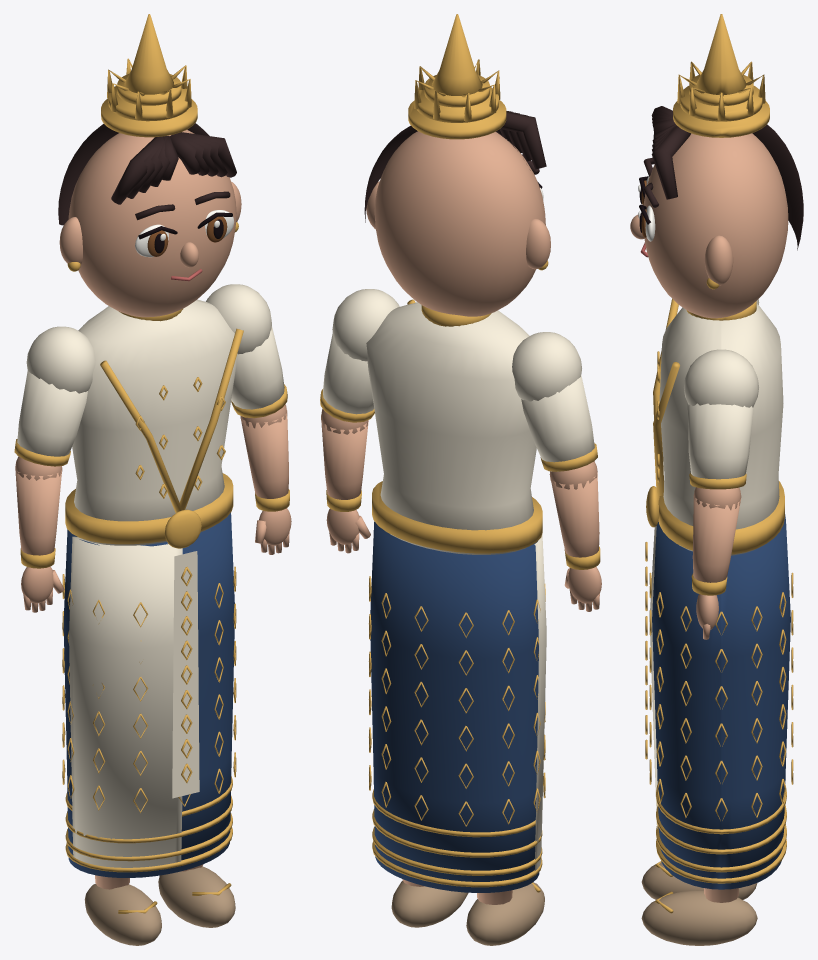
The model's file is visitor-male.glb.
The picture shows the model from 3 angles, left to right: view 1: azimuth 30°, elevation 25°; view 2: azimuth 150°, elevation 25°; view 3: azimuth 270°, elevation 25°; orthographic projection.
Visible parts, largest first — view 1: Skirt Ivory silk, Upper Ivory silk, Head Warm porcelain skin, Skirt Midnight blue silk, Upper Embossed gold, ArmL Ivory silk, Skirt Embossed gold, Head Ink brown hair, Head Embossed gold, ArmR Ivory silk, ForearmL Warm porcelain skin, KneeL Cream shoes (+7 smaller); view 2: Skirt Midnight blue silk, Upper Ivory silk, Head Warm porcelain skin, ArmL Ivory silk, Skirt Embossed gold, Head Embossed gold, ArmR Ivory silk, Upper Embossed gold, ForearmL Warm porcelain skin, ForearmR Warm porcelain skin, KneeL Cream shoes, Head Ink brown hair (+5 smaller); view 3: Skirt Midnight blue silk, Head Warm porcelain skin, Upper Ivory silk, ArmR Ivory silk, Skirt Embossed gold, Head Embossed gold, Upper Embossed gold, KneeR Cream shoes, Head Ink brown hair, ForearmR Warm porcelain skin, KneeL Cream shoes, Skirt Ivory silk (+4 smaller).
Boxes of the visible parts, x1,y1,x2,y2 form: Skirt Ivory silk: [69, 536, 199, 867]; Upper Ivory silk: [72, 299, 237, 545]; Head Warm porcelain skin: [59, 129, 241, 317]; Skirt Midnight blue silk: [63, 513, 234, 877]; Upper Embossed gold: [65, 309, 243, 548]; ArmL Ivory silk: [17, 326, 95, 456]; Skirt Embossed gold: [62, 566, 236, 872]; Head Ink brown hair: [58, 123, 236, 225]; Head Embossed gold: [67, 14, 238, 271]; ArmR Ivory silk: [206, 284, 284, 409]; ForearmL Warm porcelain skin: [15, 456, 62, 555]; KneeL Cream shoes: [84, 883, 161, 945]; Skirt Midnight blue silk: [370, 521, 539, 892]; Upper Ivory silk: [366, 302, 536, 554]; Head Warm porcelain skin: [366, 131, 550, 316]; ArmL Ivory silk: [512, 332, 594, 471]; Skirt Embossed gold: [368, 576, 545, 887]; Head Embossed gold: [408, 14, 548, 270]; ArmR Ivory silk: [323, 289, 399, 414]; Upper Embossed gold: [372, 299, 542, 553]; ForearmL Warm porcelain skin: [549, 461, 599, 557]; ForearmR Warm porcelain skin: [321, 408, 368, 499]; KneeL Cream shoes: [466, 882, 544, 945]; Head Ink brown hair: [364, 111, 546, 222]; Skirt Midnight blue silk: [652, 514, 790, 889]; Head Warm porcelain skin: [630, 133, 788, 318]; Upper Ivory silk: [659, 303, 783, 555]; ArmR Ivory silk: [684, 349, 758, 479]; Skirt Embossed gold: [645, 542, 793, 883]; Head Embossed gold: [673, 14, 769, 289]; Upper Embossed gold: [646, 298, 784, 554]; KneeR Cream shoes: [641, 890, 757, 945]; Head Ink brown hair: [643, 106, 803, 250]; ForearmR Warm porcelain skin: [692, 487, 741, 582]; KneeL Cream shoes: [641, 862, 757, 899]; Skirt Ivory silk: [649, 526, 657, 828].
Bounding box in the file's own units: 0.628 × 2.03 × 0.3499.
